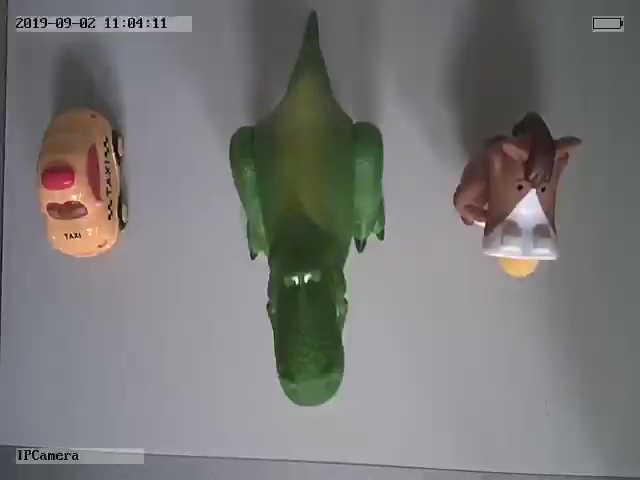car: (35, 104, 131, 259)
horse: (453, 115, 581, 276)
rex: (226, 14, 387, 408)
